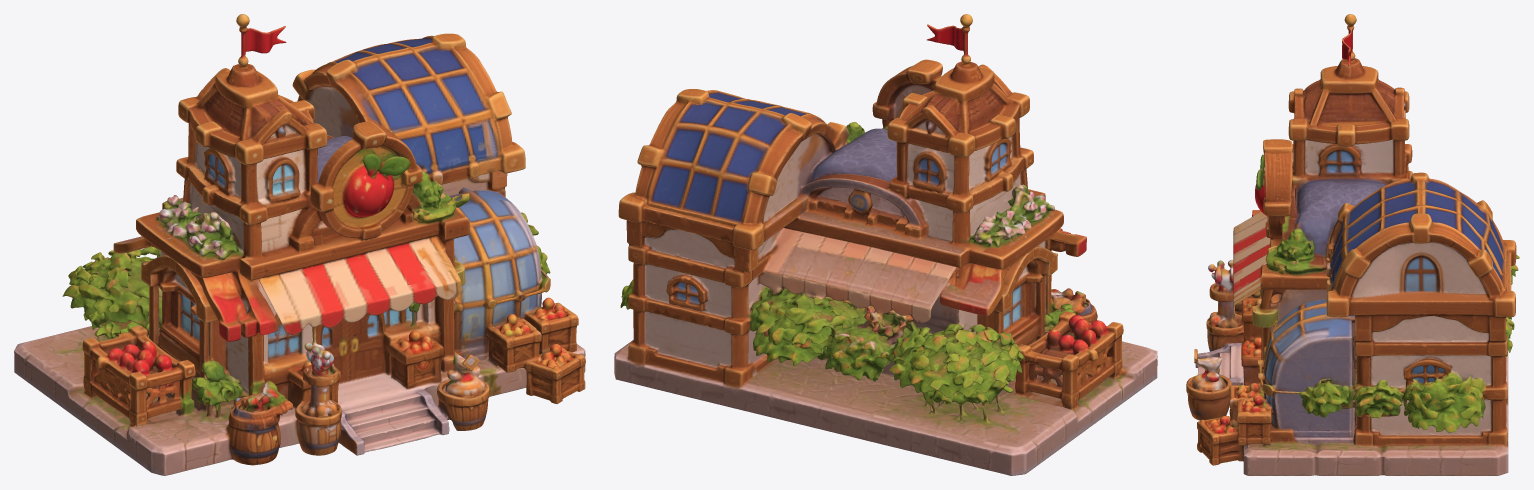
File: Meshy_AI_Apple_Harvest_Cottage_20261118_texture.fbx
3 views of the same model, side by side, from view 1: azimuth 30°, elevation 25°; view 2: azimuth 150°, elevation 25°; view 3: azimuth 270°, elevation 25° (orthographic). The views are drawn at different scales.
Parts seen in each view (by area): view 1: Mesh_0; view 2: Mesh_0; view 3: Mesh_0.
Part boxes in pixels (<box>): Mesh_0: <box>14,14,585,475</box>; Mesh_0: <box>614,14,1157,475</box>; Mesh_0: <box>1186,14,1519,475</box>.
Bounding box in the file's own units: 189 × 155 × 138.
Materials: 1 (1 with a texture image).
